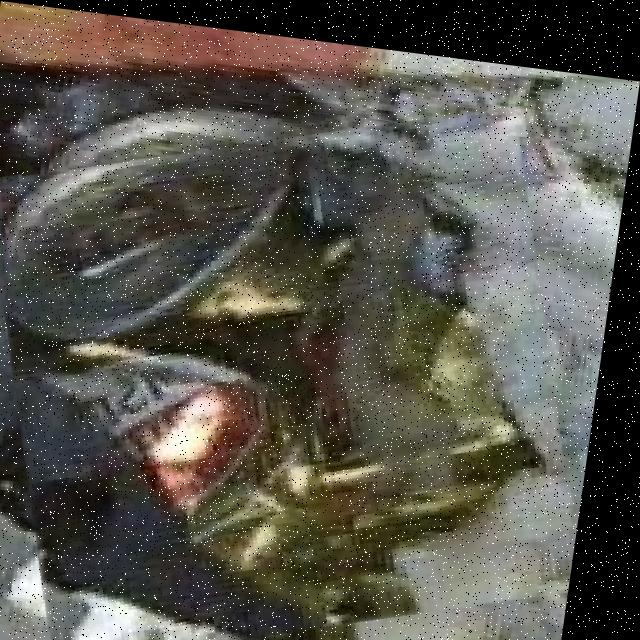can: (0, 72, 620, 640)
